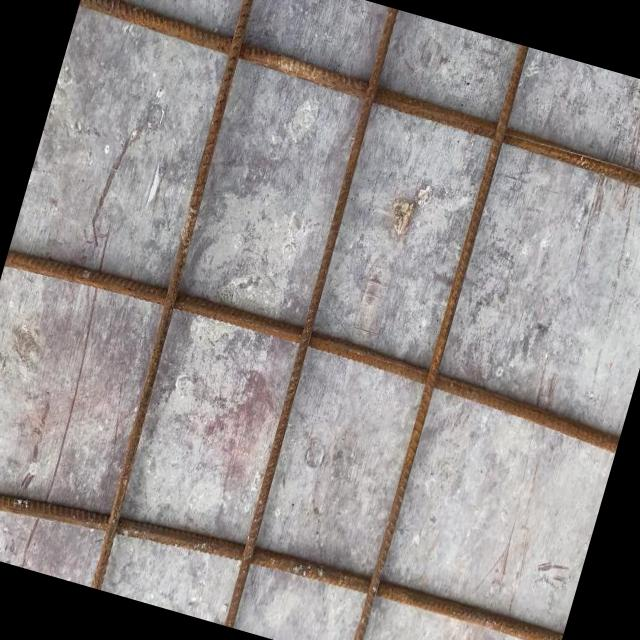ribbed bar: (0, 242, 625, 454), (211, 6, 411, 628), (73, 0, 276, 589), (340, 43, 533, 640), (72, 0, 640, 202), (0, 445, 566, 640)
